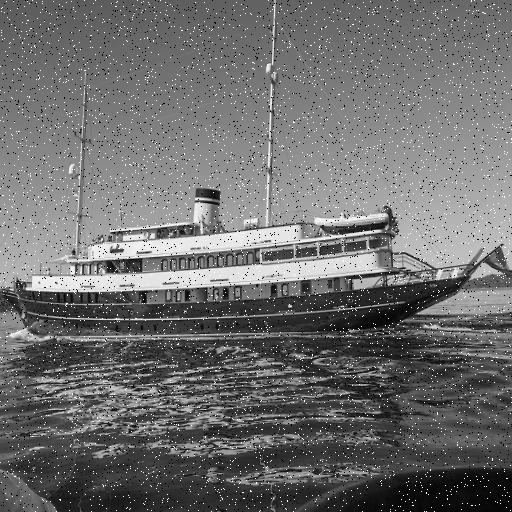cruises: (1, 180, 512, 344)
